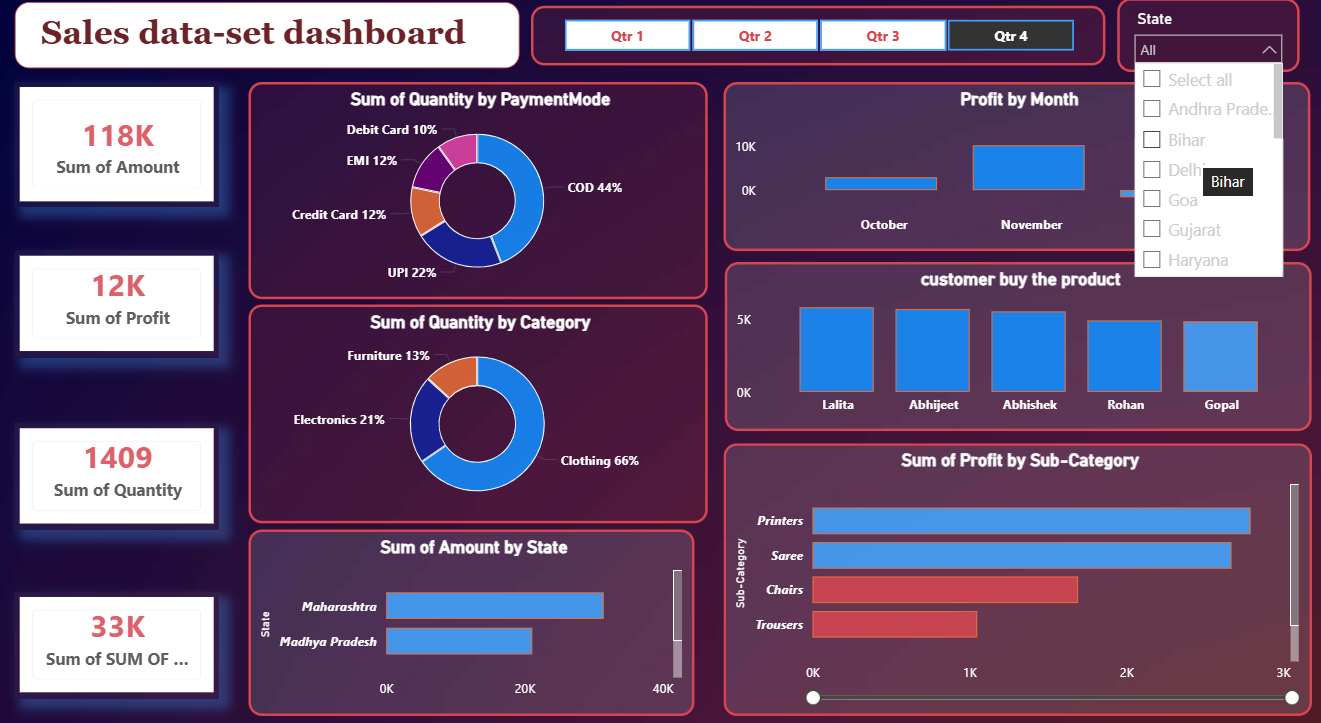

What the dashboard file says about the page in this screenshot:
{"tool":"powerbi","page":{"name":"Page 1","canvas":[1280,720],"ordinal":0},"visuals":[{"type":"textbox","box":[18.1,9.7,487.4,63.9],"z":0},{"type":"columnChart","title":"Profit by Month","fields":{"Category":["Orders.Order Date.Variation.Date Hierarchy.Month"],"Y":["Sum(Details.Profit)"]},"box":[702.6,86.4,566.7,163.3],"z":1000},{"type":"columnChart","title":"customer buy the product","fields":{"Y":["Sum(Details.Amount)"],"Category":["Orders.CustomerName"]},"box":[703.9,260.7,566.7,163.3],"z":2000},{"type":"barChart","fields":{"Y":["Sum(Details.Profit)"],"Category":["Details.Sub-Category"]},"box":[702.6,435,568.1,263.5],"z":3000},{"type":"donutChart","fields":{"Category":["Details.Category"],"Y":["Sum(Details.Quantity)"]},"box":[244.3,301.9,443.2,211.3],"z":4000},{"type":"donutChart","fields":{"Y":["Sum(Details.Quantity)"],"Category":["Details.PaymentMode"]},"box":[244.3,86.4,443.2,209.9],"z":5000},{"type":"cardVisual","fields":{"Data":["Sum(Details.Amount)"]},"box":[17.8,86.4,197.6,120.8],"z":6000},{"type":"cardVisual","fields":{"Data":["Sum(Details.Profit)"]},"box":[17.8,249.7,197.6,102.9],"z":7000},{"type":"cardVisual","fields":{"Data":["Sum(Details.Quantity)"]},"box":[17.8,415.8,197.6,102.9],"z":8000},{"type":"cardVisual","fields":{"Data":["Sum(Details.SUM OF AVG)"]},"box":[17.8,579.1,197.6,102.9],"z":9000},{"type":"barChart","fields":{"Category":["Orders.State"],"Y":["Sum(Details.Amount)"]},"box":[243.7,518.8,430.7,179.8],"z":10000},{"type":"slicer","fields":{"Values":["Orders.Order Date.Variation.Date Hierarchy.Quarter"]},"box":[516,13.7,554.4,57.6],"z":11000},{"type":"slicer","fields":{"Values":["Orders.State"]},"box":[1082.7,5.5,175.6,71],"z":12000}]}

Visuals, with their boxes in screenshot pixels (x1, y1, x2, y2), scaled from the page's 1280x720 canvas onto the 1321x723 screenshot:
textbox: box(19, 10, 522, 74)
"Profit by Month" columnChart: box(725, 87, 1310, 251)
"customer buy the product" columnChart: box(726, 262, 1311, 426)
barChart - Sum(Details.Profit) x Details.Sub-Category: box(725, 437, 1311, 701)
donutChart - Details.Category x Sum(Details.Quantity): box(252, 303, 710, 515)
donutChart - Sum(Details.Quantity) x Details.PaymentMode: box(252, 87, 710, 298)
cardVisual - Sum(Details.Amount): box(18, 87, 222, 208)
cardVisual - Sum(Details.Profit): box(18, 251, 222, 354)
cardVisual - Sum(Details.Quantity): box(18, 418, 222, 521)
cardVisual - Sum(Details.SUM OF AVG): box(18, 582, 222, 685)
barChart - Orders.State x Sum(Details.Amount): box(252, 521, 696, 702)
slicer - Orders.Order Date.Variation.Date Hierarchy.Quarter: box(533, 14, 1105, 72)
slicer - Orders.State: box(1117, 6, 1299, 77)
